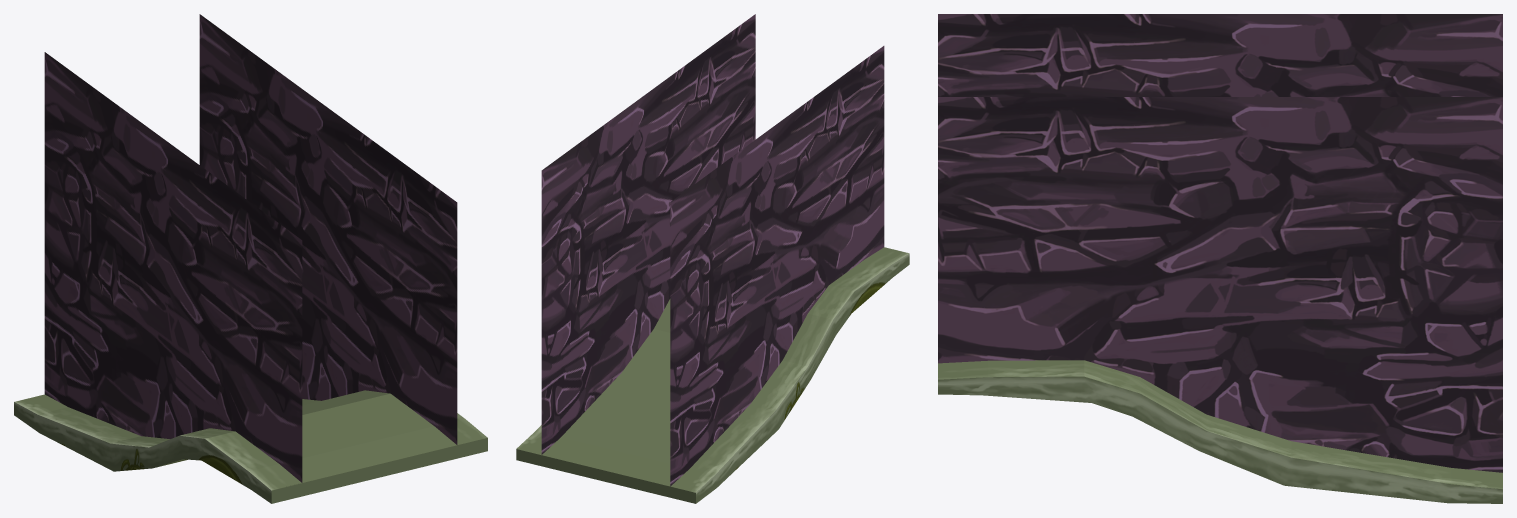
The model's file is tt_forest_midpiece02.FBX.
3 views of the same model, side by side, from view 1: azimuth 30°, elevation 25°; view 2: azimuth 150°, elevation 25°; view 3: azimuth 270°, elevation 25° (orthographic). The views are drawn at different scales.
Visible parts, largest first — view 1: tt_forest_midpiece02; view 2: tt_forest_midpiece02; view 3: tt_forest_midpiece02.
Part boxes in pixels (left/top/right/bottom): tt_forest_midpiece02: left=14, top=14, right=487, bottom=503; tt_forest_midpiece02: left=516, top=14, right=909, bottom=503; tt_forest_midpiece02: left=938, top=14, right=1502, bottom=503.
Size of the model in its own units: 144 by 226 by 296.
